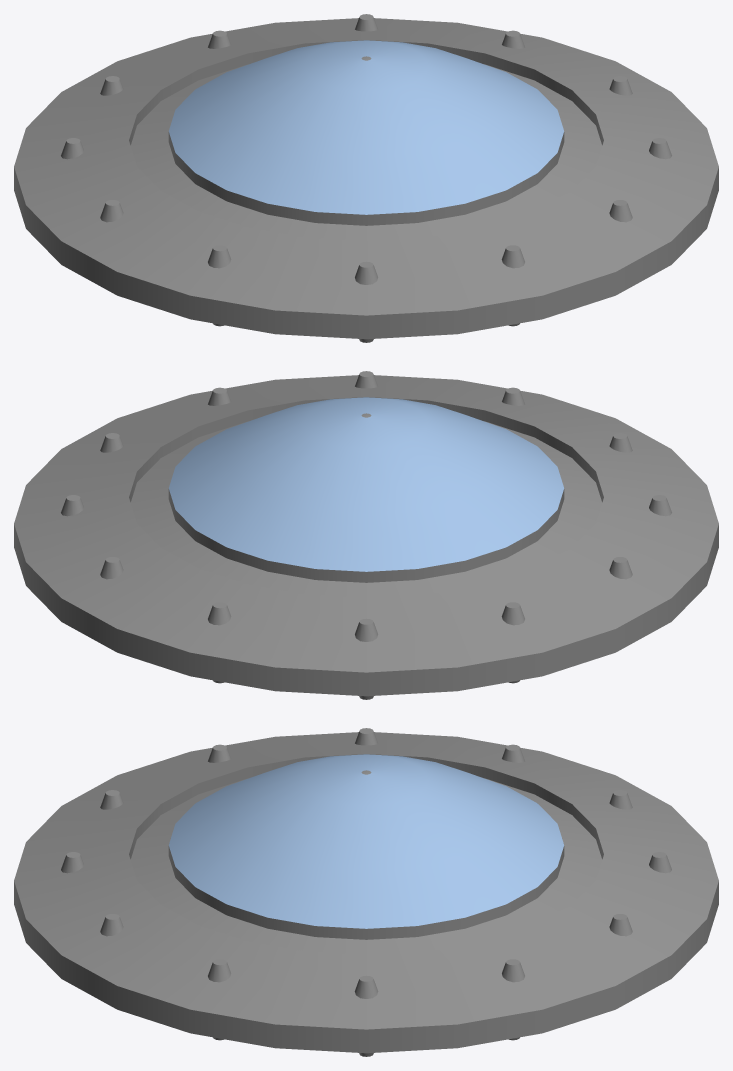
File: LowPolyUFO.glb
3 views of the same model, one above another, from view 1: azimuth 30°, elevation 25°; view 2: azimuth 150°, elevation 25°; view 3: azimuth 270°, elevation 25° (orthographic).
Parts seen in each view (by area): view 1: Circle; view 2: Circle; view 3: Circle.
Part boxes in pixels (x1,y1,x2,y2): Circle: [14, 14, 718, 342]; Circle: [14, 371, 718, 699]; Circle: [14, 728, 718, 1056].
Size of what is drawn, in the model's own units: 2 by 0.751 by 2.
